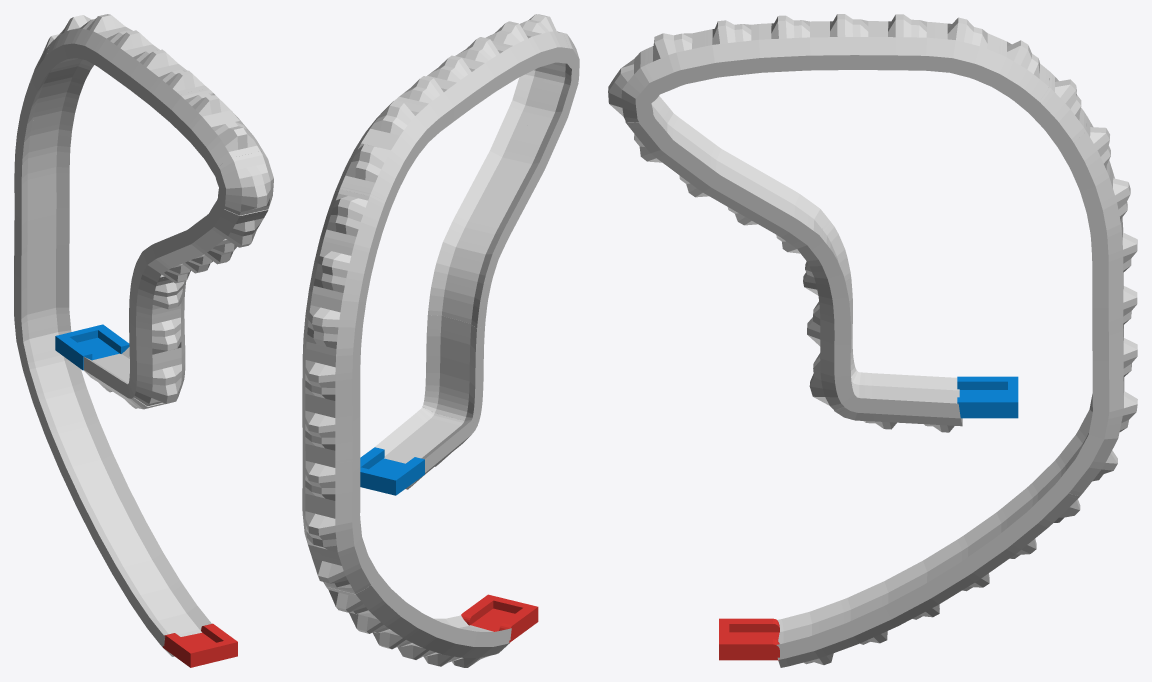
Rendered from level design 3.fbx.
3 views of the same model, side by side, from view 1: azimuth 30°, elevation 25°; view 2: azimuth 150°, elevation 25°; view 3: azimuth 270°, elevation 25° (orthographic). The views are drawn at different scales.
Parts seen in each view (by area): view 1: Plane, Cube.009, Cube.008; view 2: Plane, Cube.009, Cube.008; view 3: Plane, Cube.008, Cube.009.
Part boxes in pixels (left/top/right/bottom): Plane: left=14, top=14, right=273, bottom=656; Cube.009: left=163, top=623, right=237, bottom=667; Cube.008: left=55, top=324, right=129, bottom=370; Plane: left=302, top=14, right=579, bottom=667; Cube.009: left=461, top=594, right=538, bottom=642; Cube.008: left=360, top=447, right=424, bottom=495; Plane: left=608, top=14, right=1137, bottom=667; Cube.008: left=957, top=376, right=1018, bottom=418; Cube.009: left=719, top=618, right=779, bottom=660.
Size of the model in its own units: 2.15 by 23.43 by 17.41.
